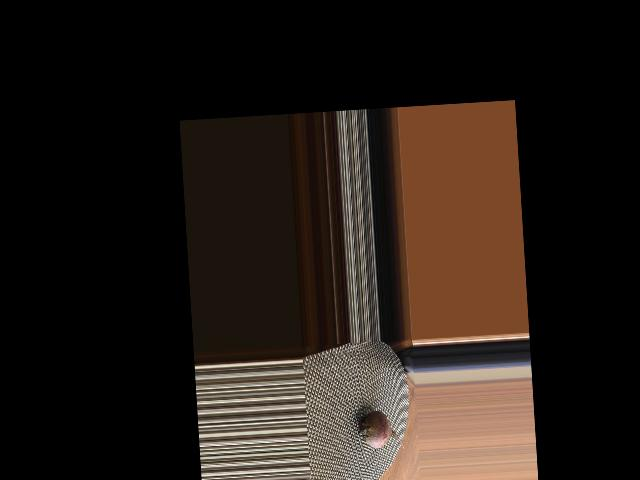beet: (355, 404, 403, 455)
